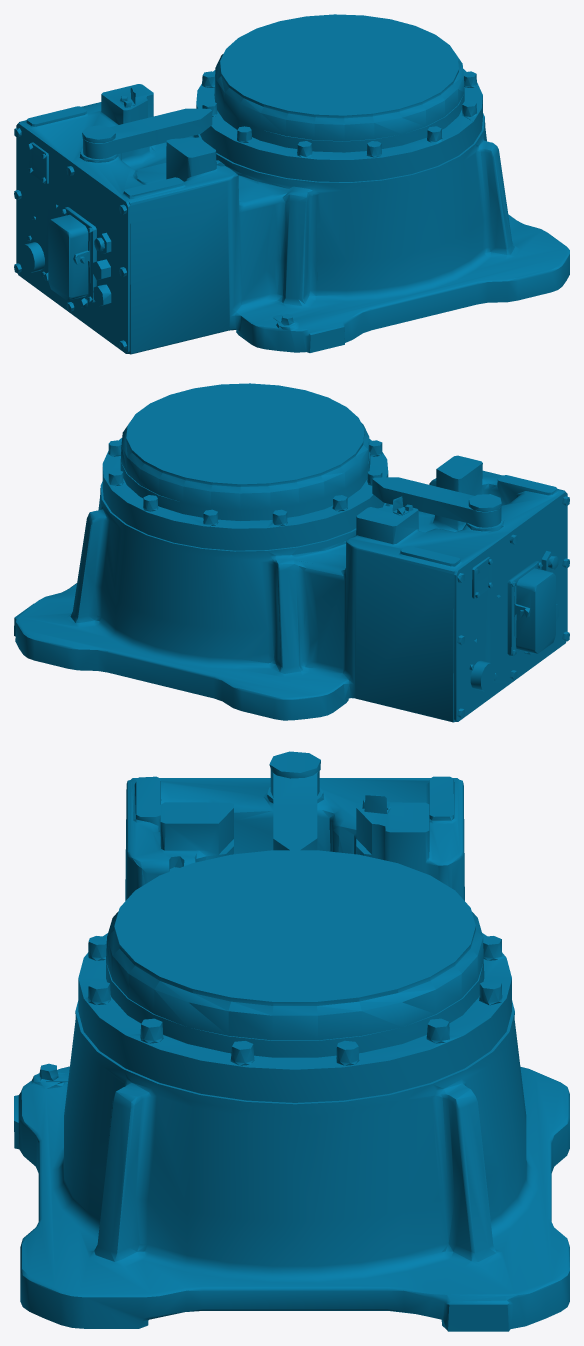
3 renders of one model, top to bottom at view 1: azimuth 30°, elevation 25°; view 2: azimuth 150°, elevation 25°; view 3: azimuth 270°, elevation 25°, orthographic. The views are drawn at different scales.
Parts seen in each view (by area): view 1: pl80_lk0; view 2: pl80_lk0; view 3: pl80_lk0.
Part boxes in pixels (left/top/right/bottom): pl80_lk0: left=14, top=14, right=569, bottom=354; pl80_lk0: left=14, top=383, right=569, bottom=722; pl80_lk0: left=14, top=751, right=569, bottom=1331.
Bounding box in the file's own units: 0.6451 × 0.4552 × 0.2591.
